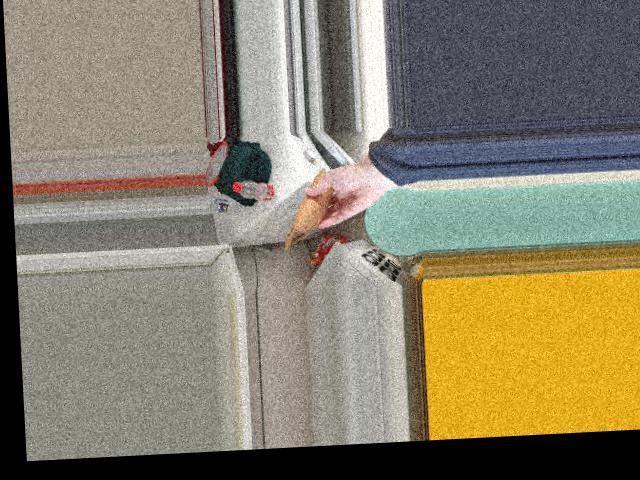sweet_potato: (293, 180, 334, 230)
